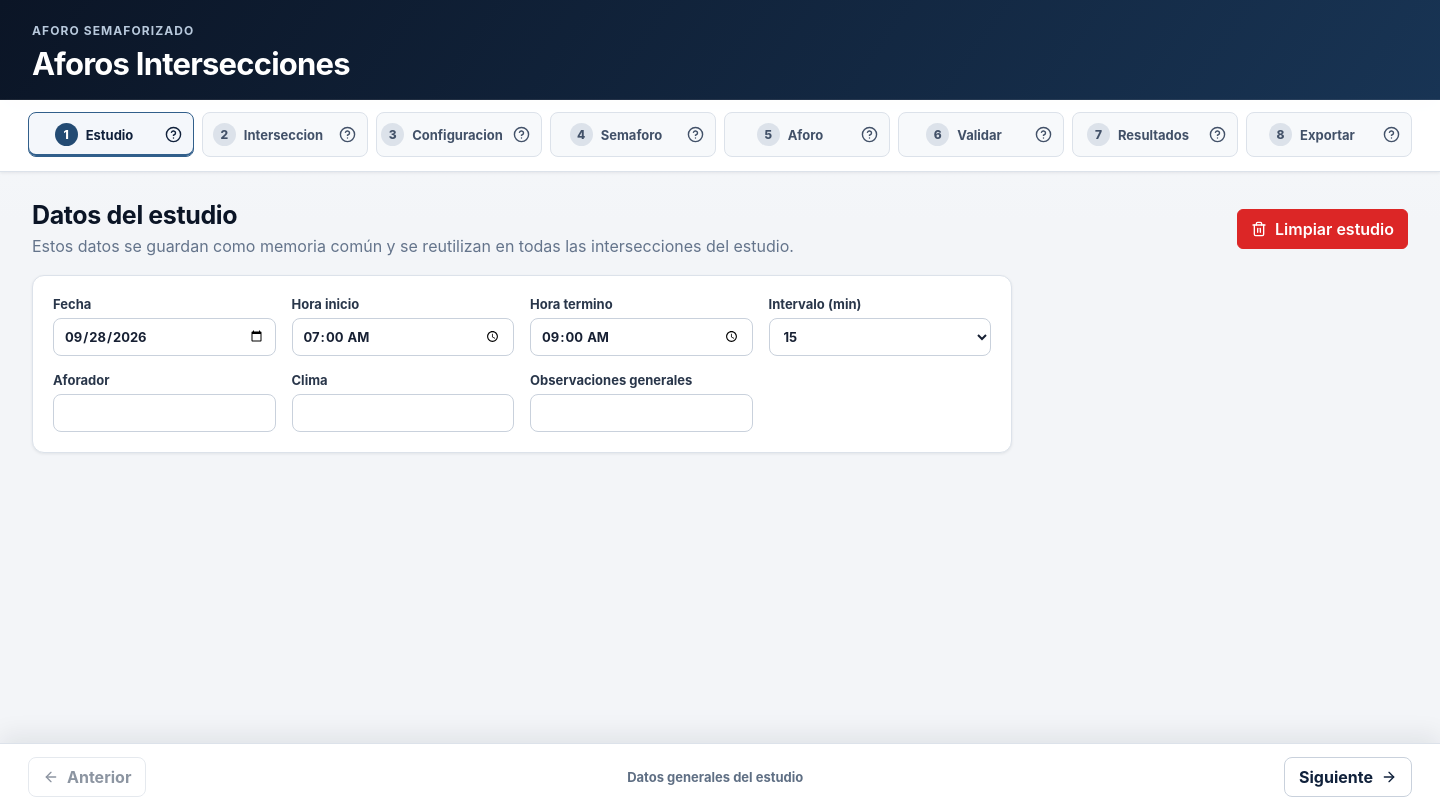
Test: WizardApp ficha aforo capture flow › clears the whole persisted application when Limpiar estudio is confirmed
This screenshot has width=1440, height=810.
In the field labelled "Aforador": (164, 413) [53, 394, 276, 432], type "Se borrará"
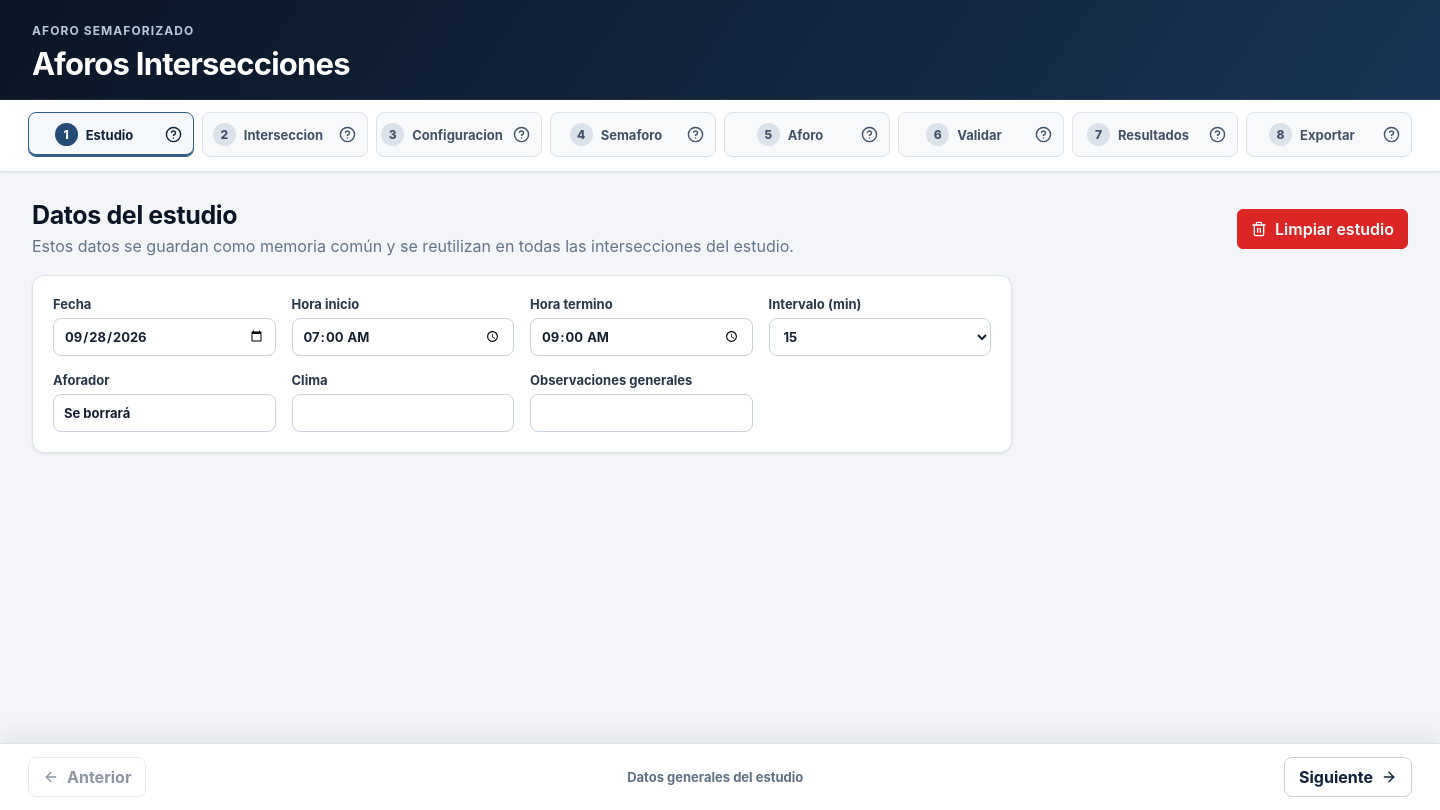
Click the button "2 Interseccion": (268, 135) [208, 118, 328, 151]
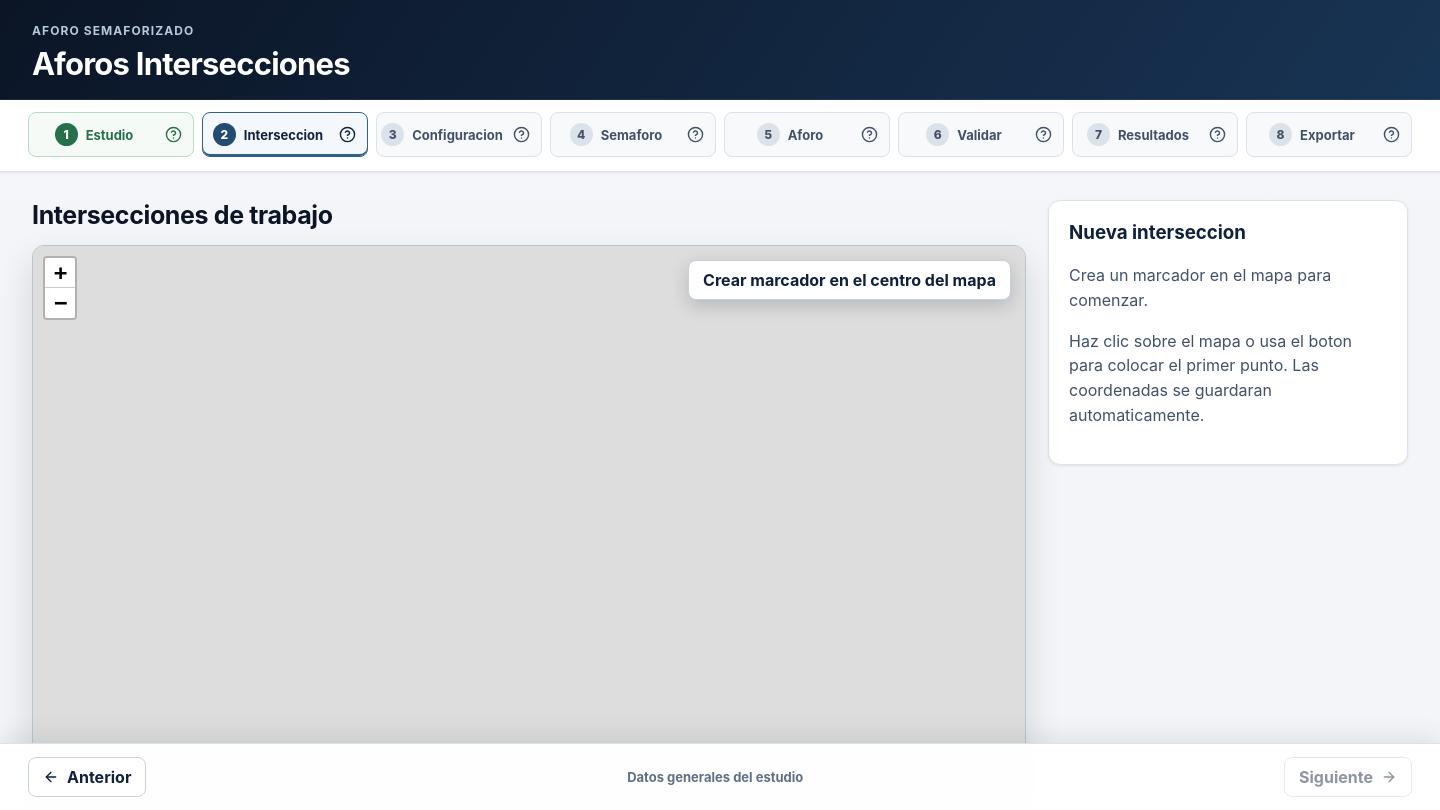
Click the button with aria-label "Crear una intersección en el centro visible del mapa": (850, 280) [688, 260, 1011, 300]
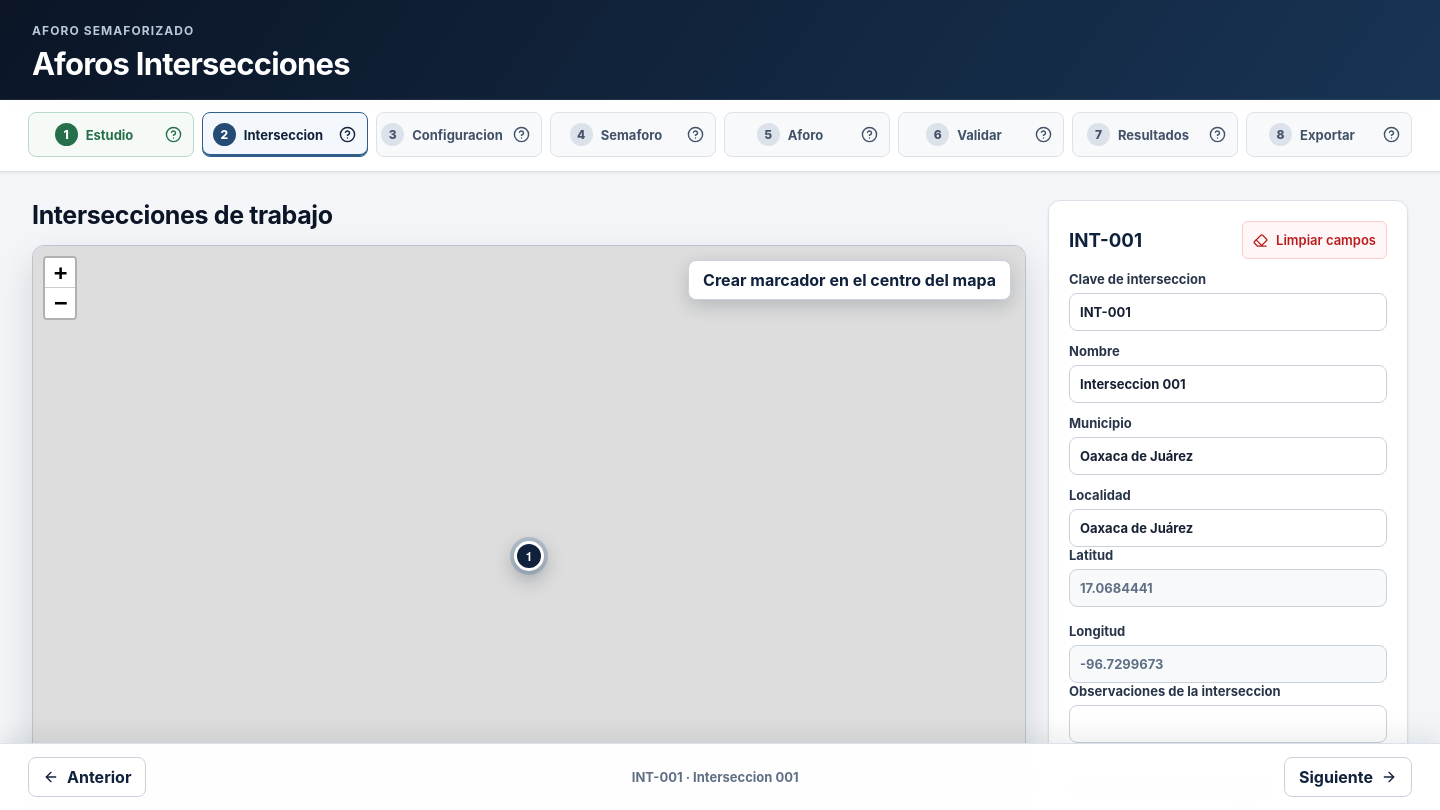
Click the button "1 Estudio": (94, 135) [34, 118, 154, 151]
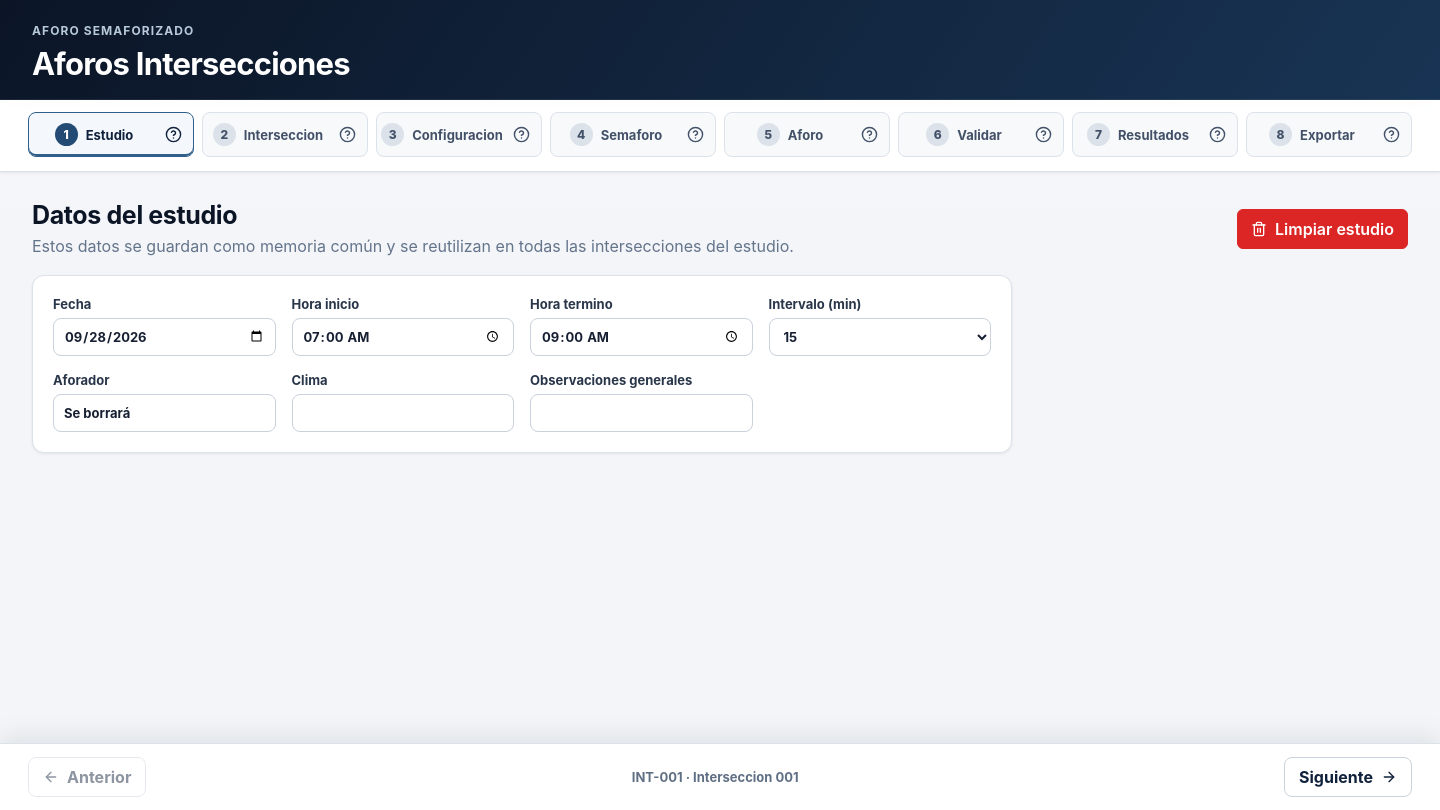
Click the button "Limpiar estudio": (1322, 230) [1237, 210, 1408, 250]
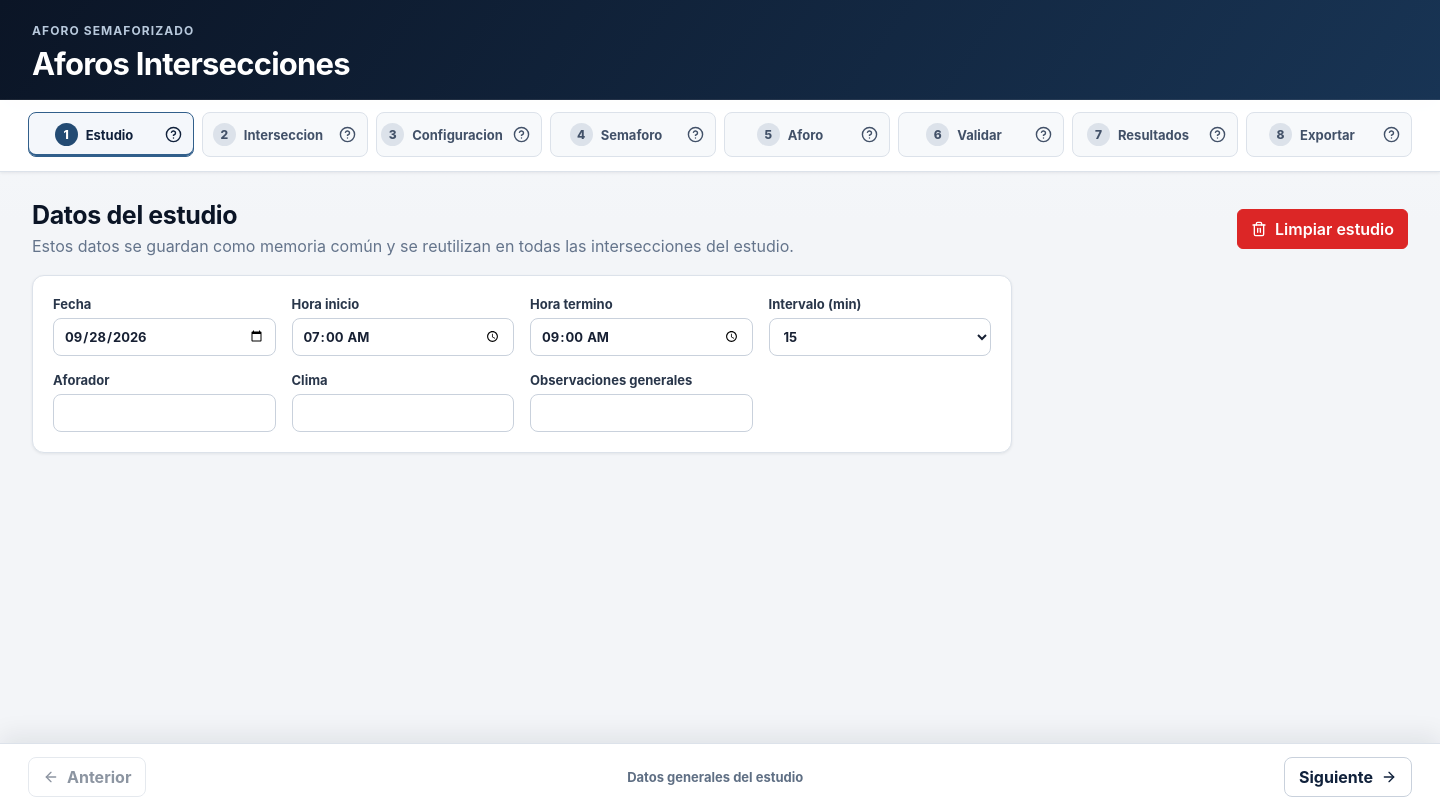
Expected: the field labelled "Aforador" is empty, [53, 394, 276, 432]
